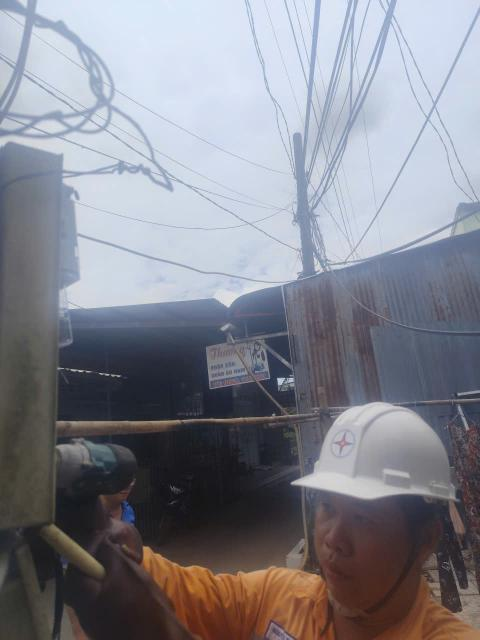gloves: (63, 504, 217, 640)
helmet: (313, 386, 464, 519)
